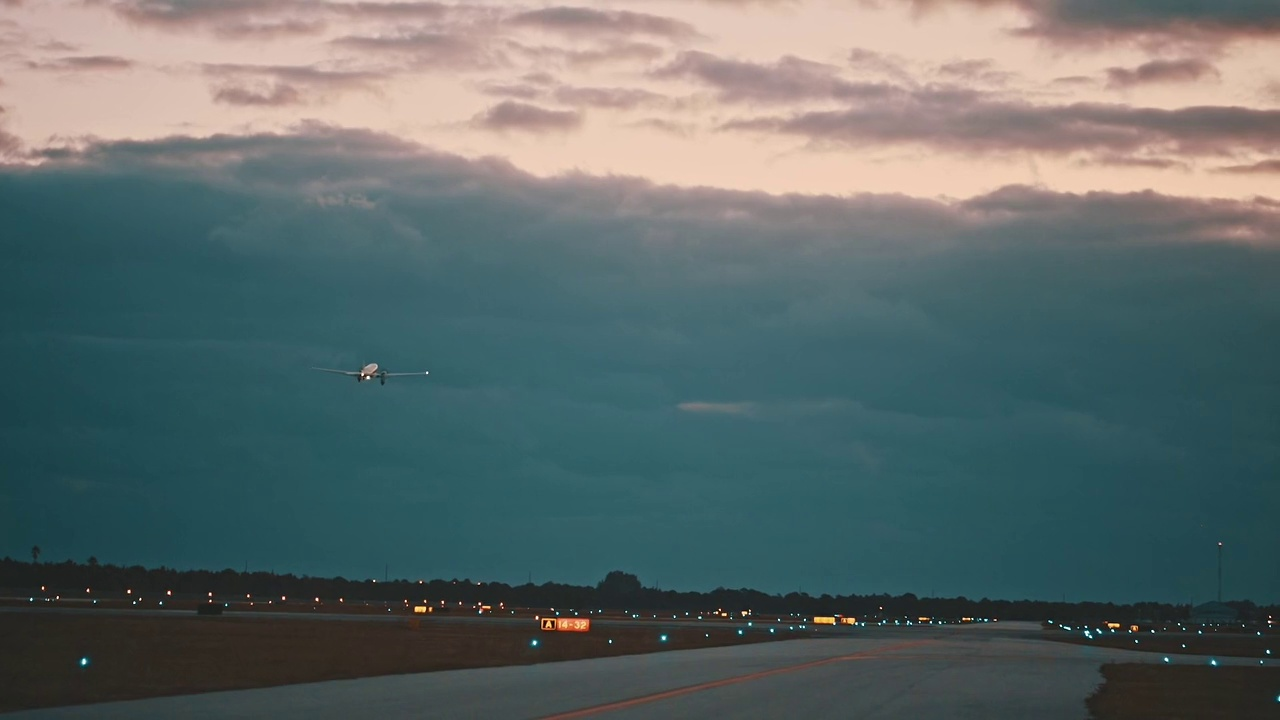plane: (310, 360, 430, 386)
